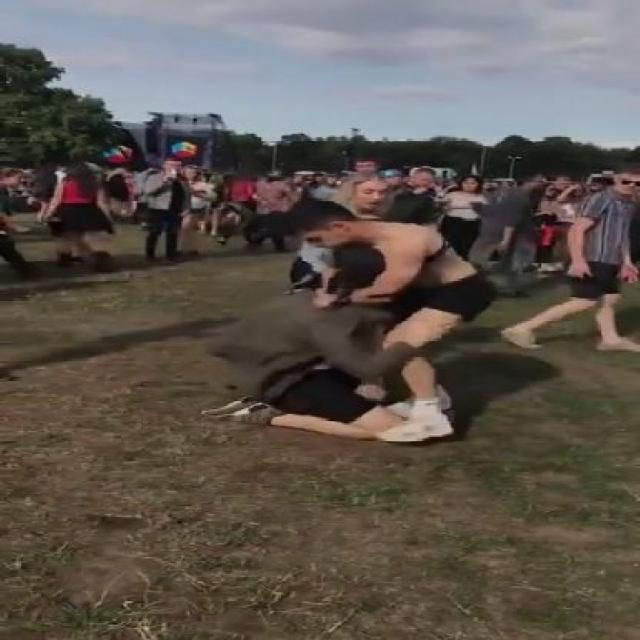fight: (189, 210, 492, 498)
